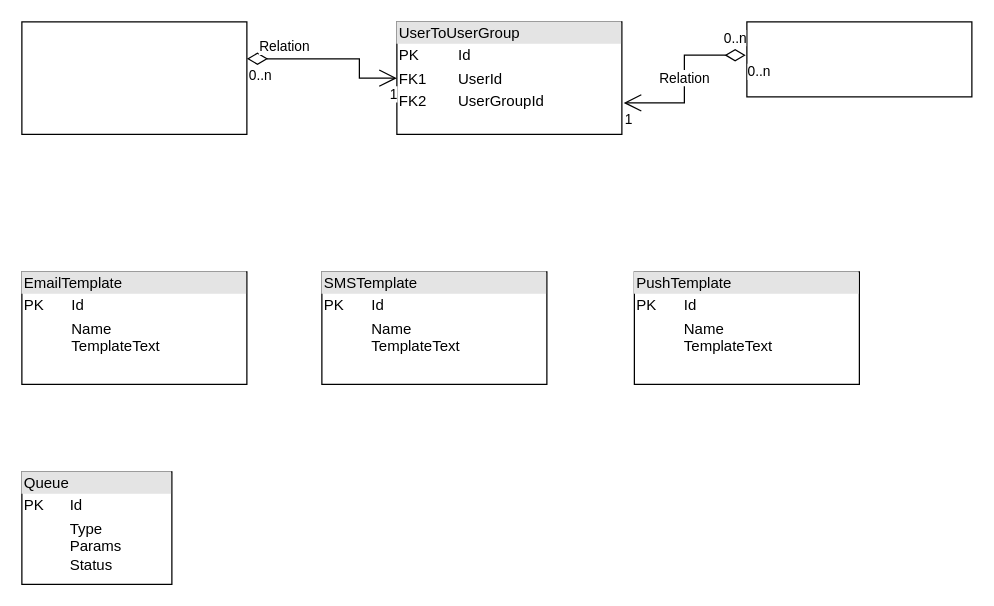
Some shapes in this 994 by 606 pixel diagram are drawn without their labels. The shapes that lost their labels are listed below. From the top down, each one's centre as x and y in pixels, then its label:
the point at 134,77: User PK Id Name Phone Email
the point at 859,59: UserGroup PK Id Name
